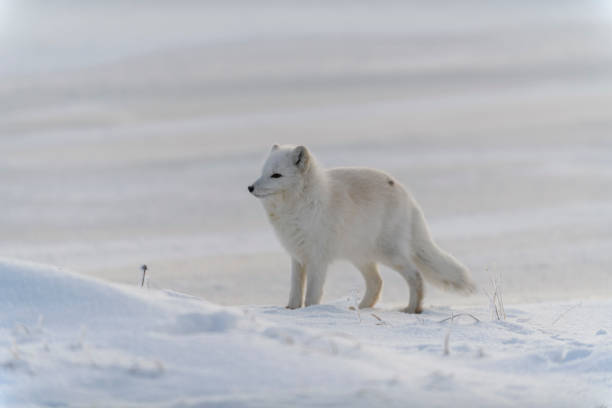arcticfox: (243, 140, 307, 223)
